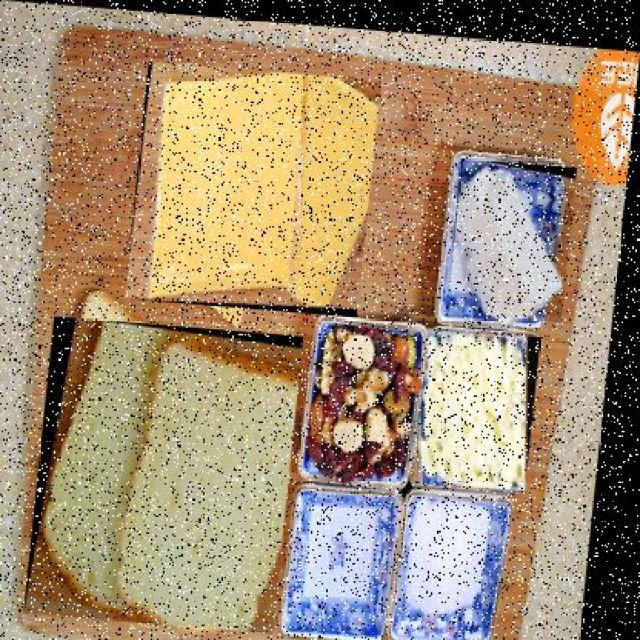bread: (37, 312, 312, 627)
butter: (451, 150, 581, 312)
cheese: (131, 57, 384, 310)
mozzarella cheese: (422, 318, 548, 482)
